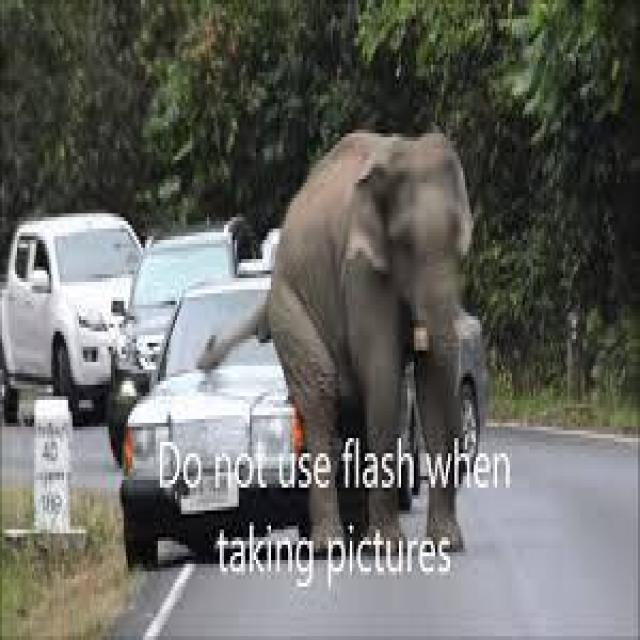Elephant: (198, 106, 486, 558)
